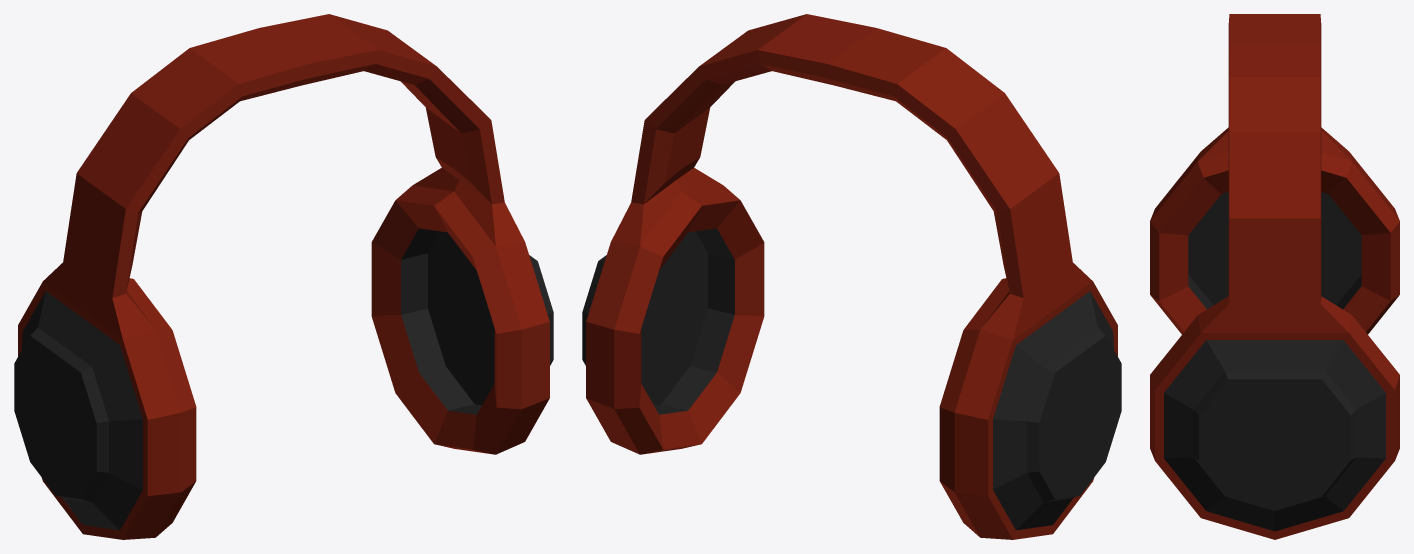
Rendered from HeadphonesV1Red.fbx.
The picture shows the model from 3 angles, left to right: view 1: azimuth 30°, elevation 25°; view 2: azimuth 150°, elevation 25°; view 3: azimuth 270°, elevation 25°; orthographic projection. The views are drawn at different scales.
Parts seen in each view (by area): view 1: HeadphonesV1Red; view 2: HeadphonesV1Red; view 3: HeadphonesV1Red.
Boxes of the visible parts, x1,y1,x2,y2 form: HeadphonesV1Red: (14, 14, 553, 539); HeadphonesV1Red: (582, 14, 1121, 539); HeadphonesV1Red: (1150, 14, 1399, 539).
Bounding box in the file's own units: 28.09 × 26.1 × 14.38.
